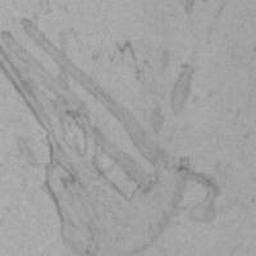Water spot: (0, 17, 224, 256), (169, 61, 195, 116), (36, 0, 55, 17)
